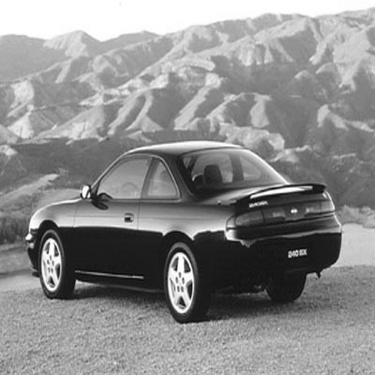car: (22, 130, 347, 326)
